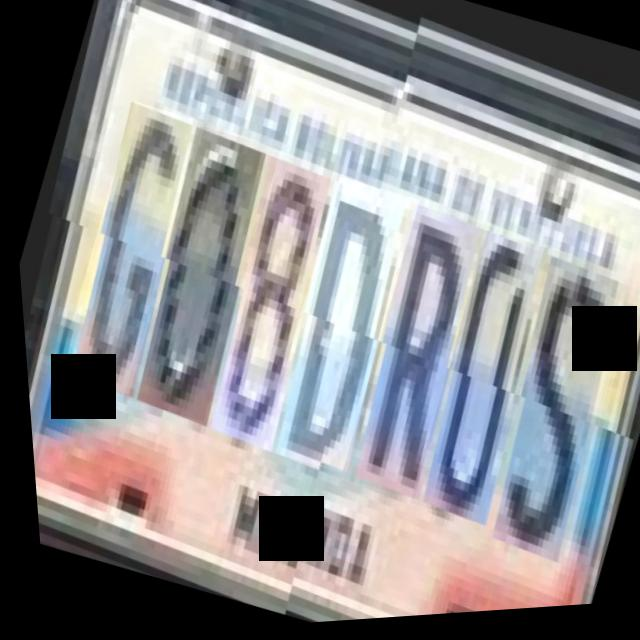0: (387, 234, 570, 534)
8: (175, 153, 358, 452)
D: (240, 177, 432, 482)
G: (36, 100, 219, 400)
O: (102, 125, 294, 428)
R: (318, 207, 505, 509)
S: (453, 261, 640, 570)
